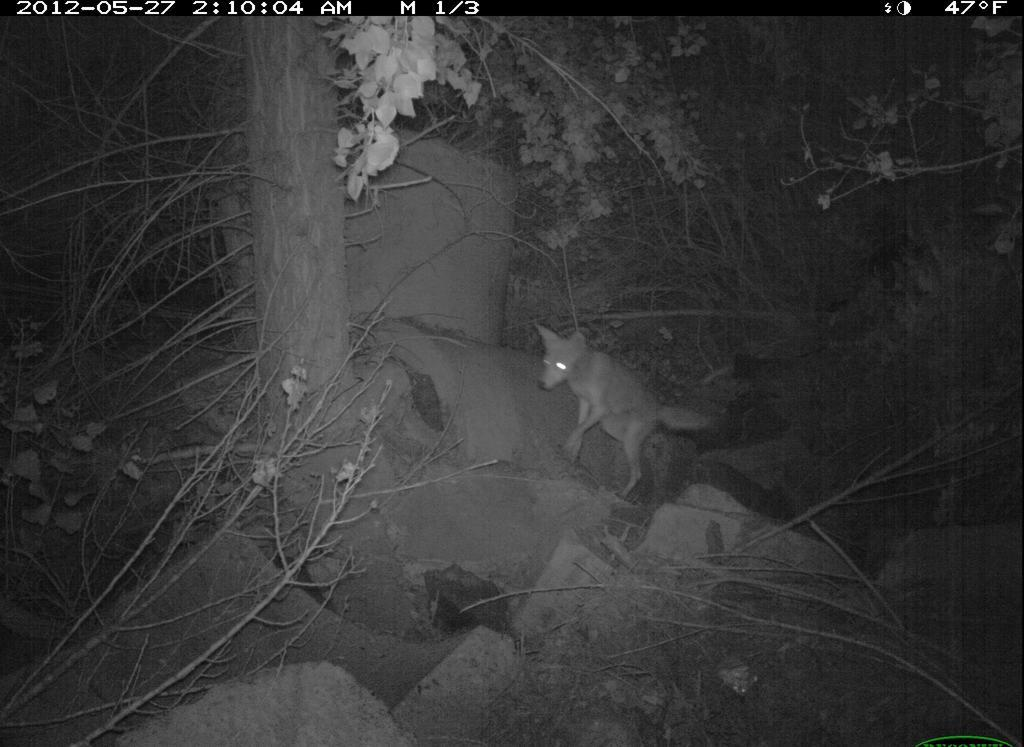coyote: (532, 318, 722, 504)
